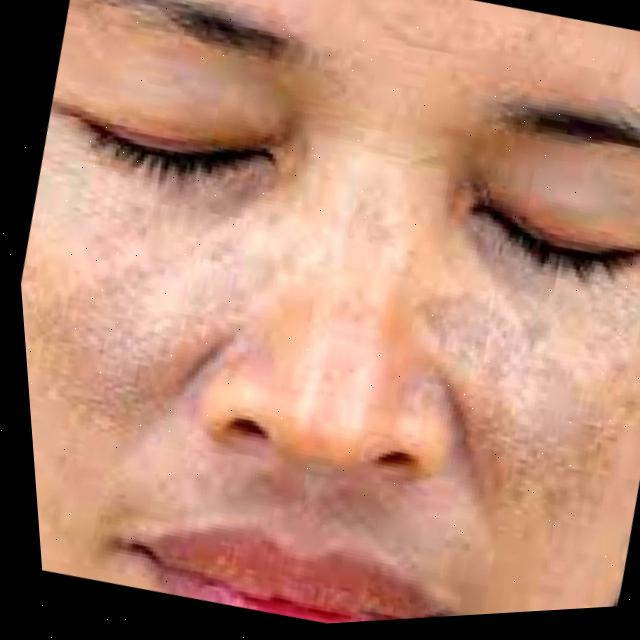Melasma: (16, 203, 244, 476), (413, 272, 640, 502)
